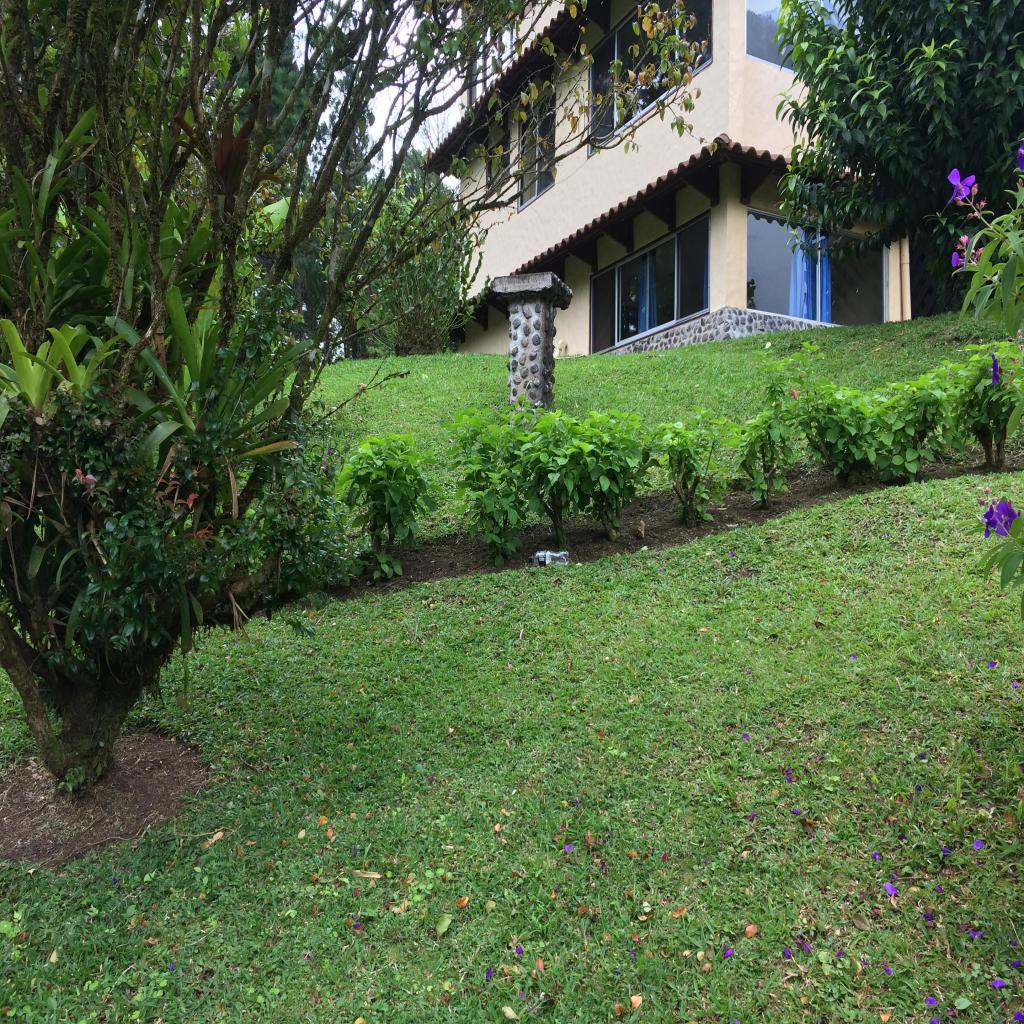Clear plastic bottle: (529, 550, 569, 566)
